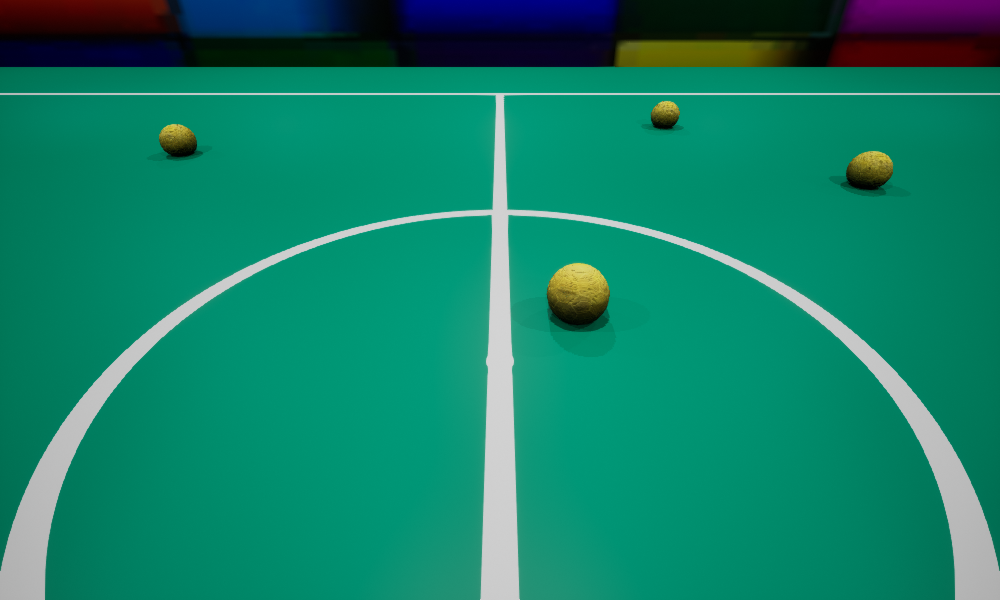b: (547, 263, 609, 323), (846, 151, 892, 189), (159, 124, 196, 156), (651, 101, 679, 128)
